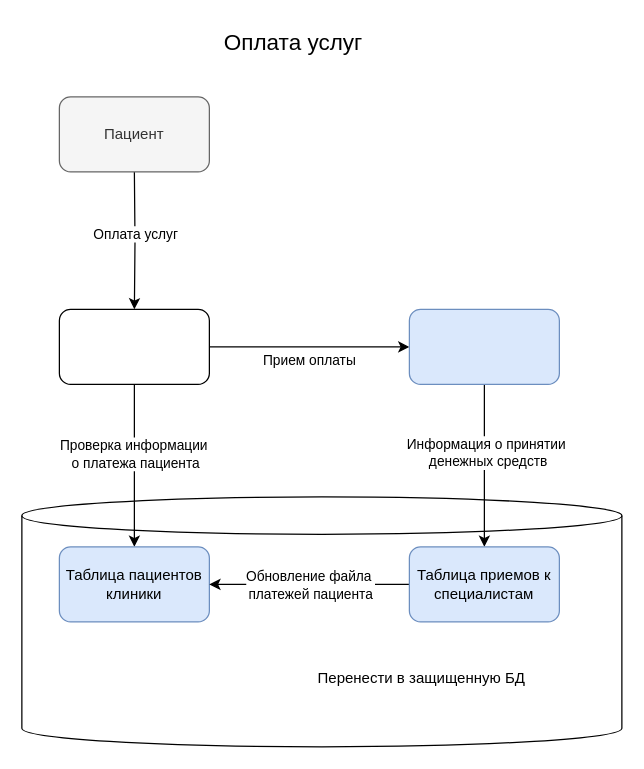
Image size: 644x769. Some labels were removed from this diagram. Here are the shapes that lost their labels. From the top down, the box of each, then its label:
(58, 308, 209, 384): Кассир
(408, 308, 559, 384): Контрольно-кассовая машина ККМ
